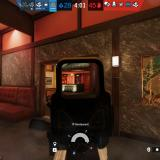Character: (76, 81, 79, 84)
